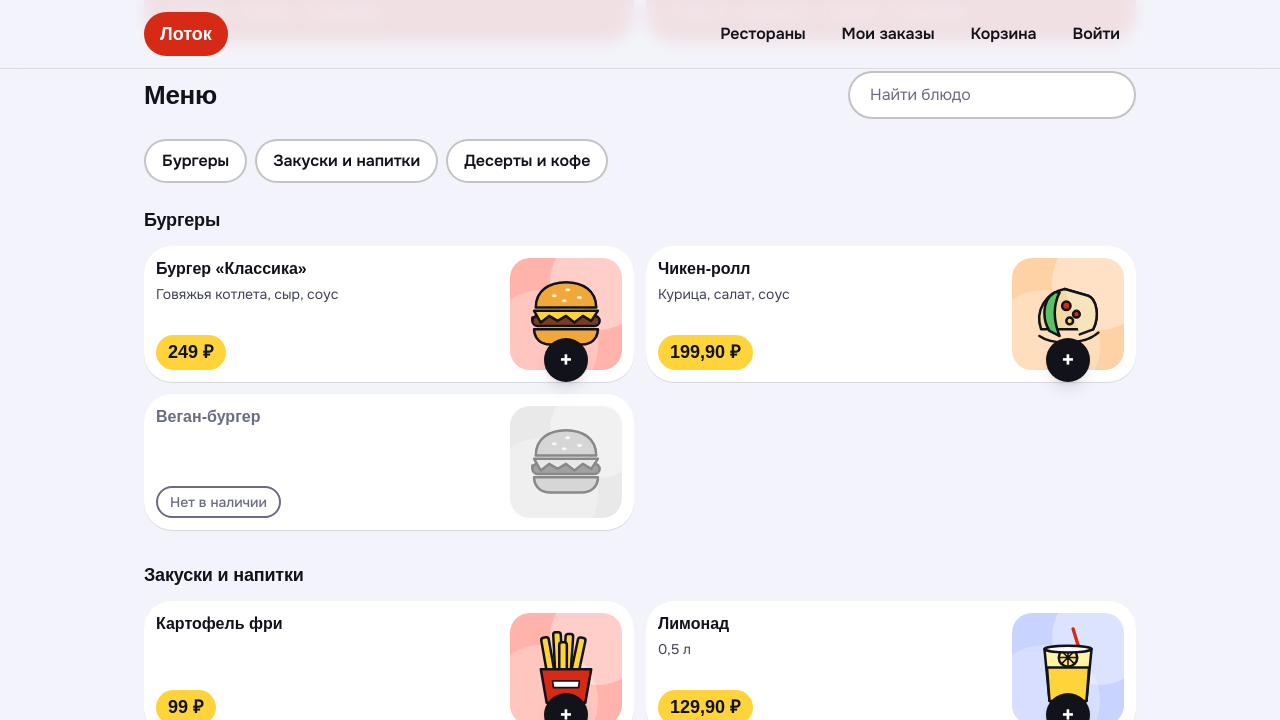
Test: корзина: названия добавок › вместо «Добавки: 1» показывает название
The width and height of the screenshot is (1280, 720).
(page scrolled)
Click the button named "Выбрать «Бургер «Классика»»".
click(566, 360)  # box [544,338,588,382]
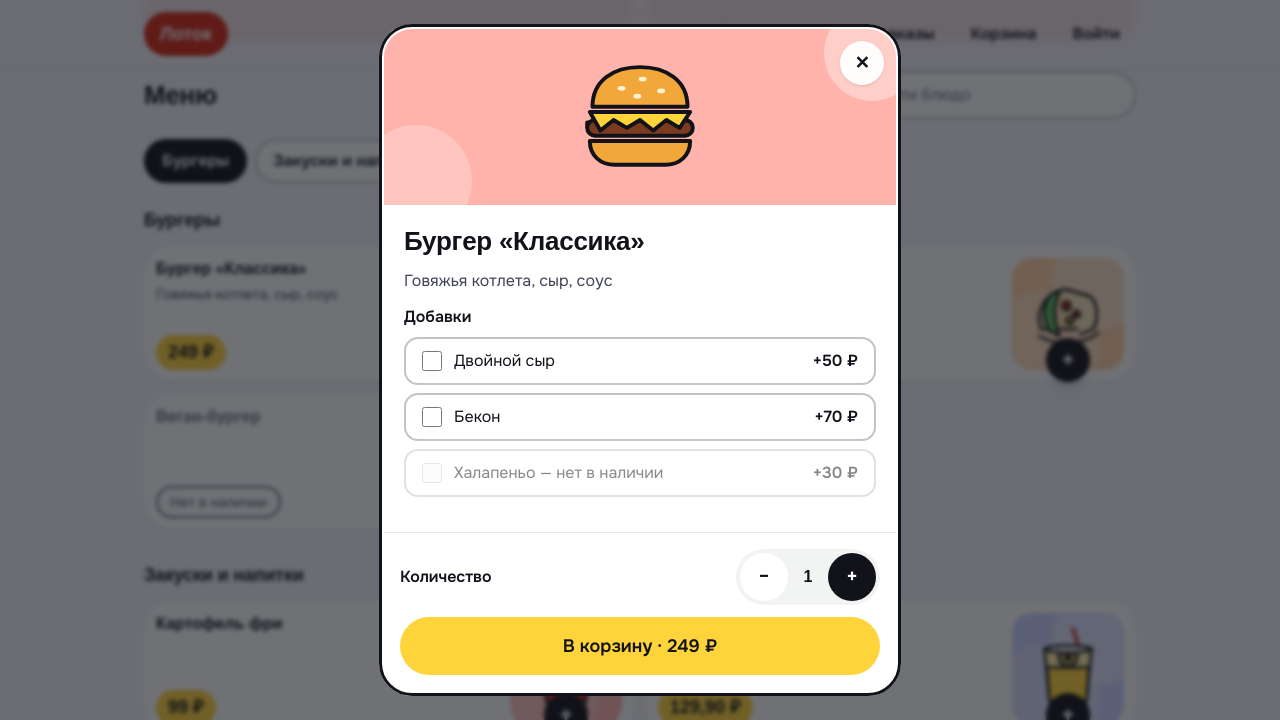
Click the checkbox labelled "Двойной сыр +50 ₽".
click(432, 361)  # box [422,351,442,371]
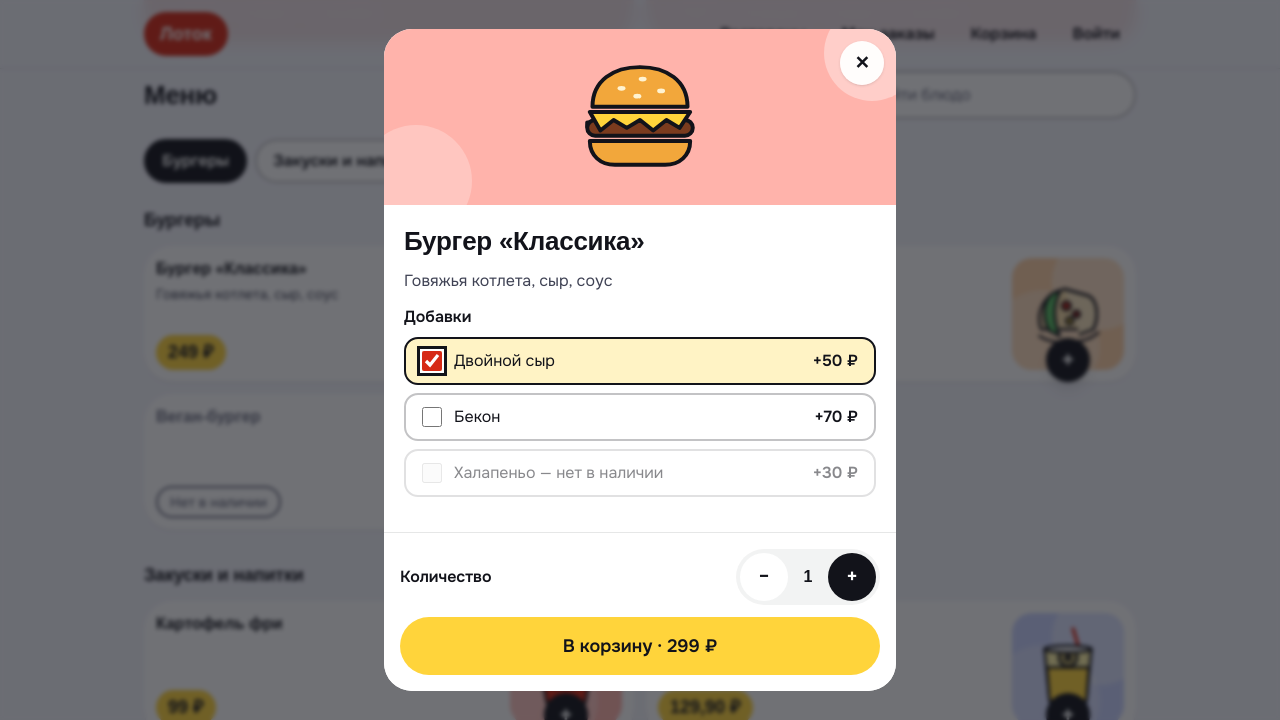
Click the button "В корзину · 299 ₽".
click(640, 646)  # box [400,617,880,675]
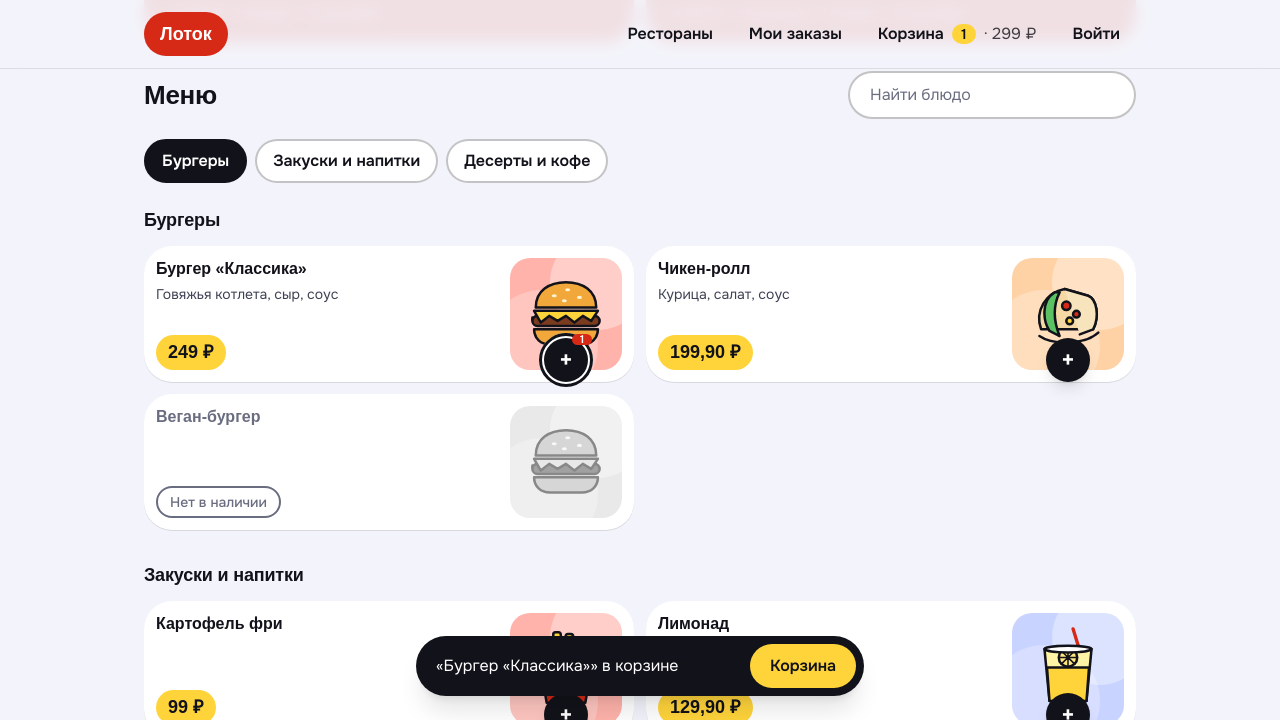
Result: the text "«Бургер «Классика»» в корзине" is shown at [436,654,678,678]
Click the button "Корзина".
click(803, 666)  # box [750,644,856,688]
(page scrolled)
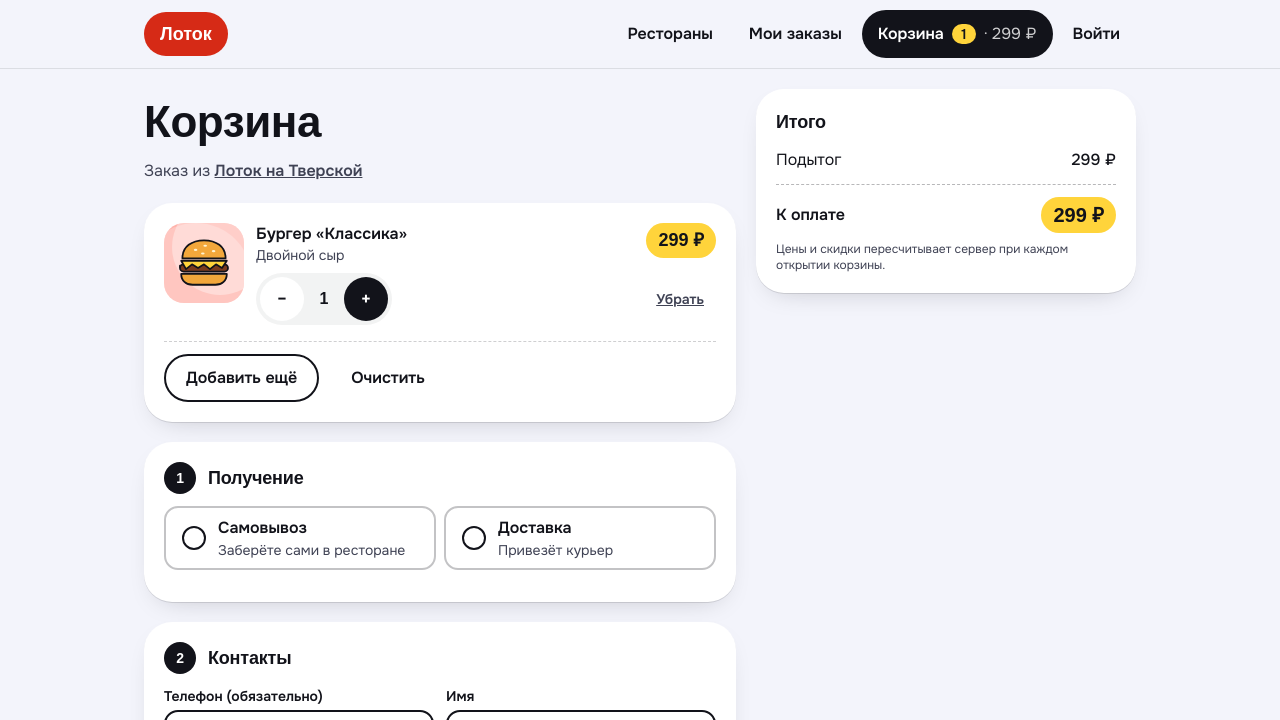
Result: the text "Двойной сыр" is shown at [256,246,344,264]
